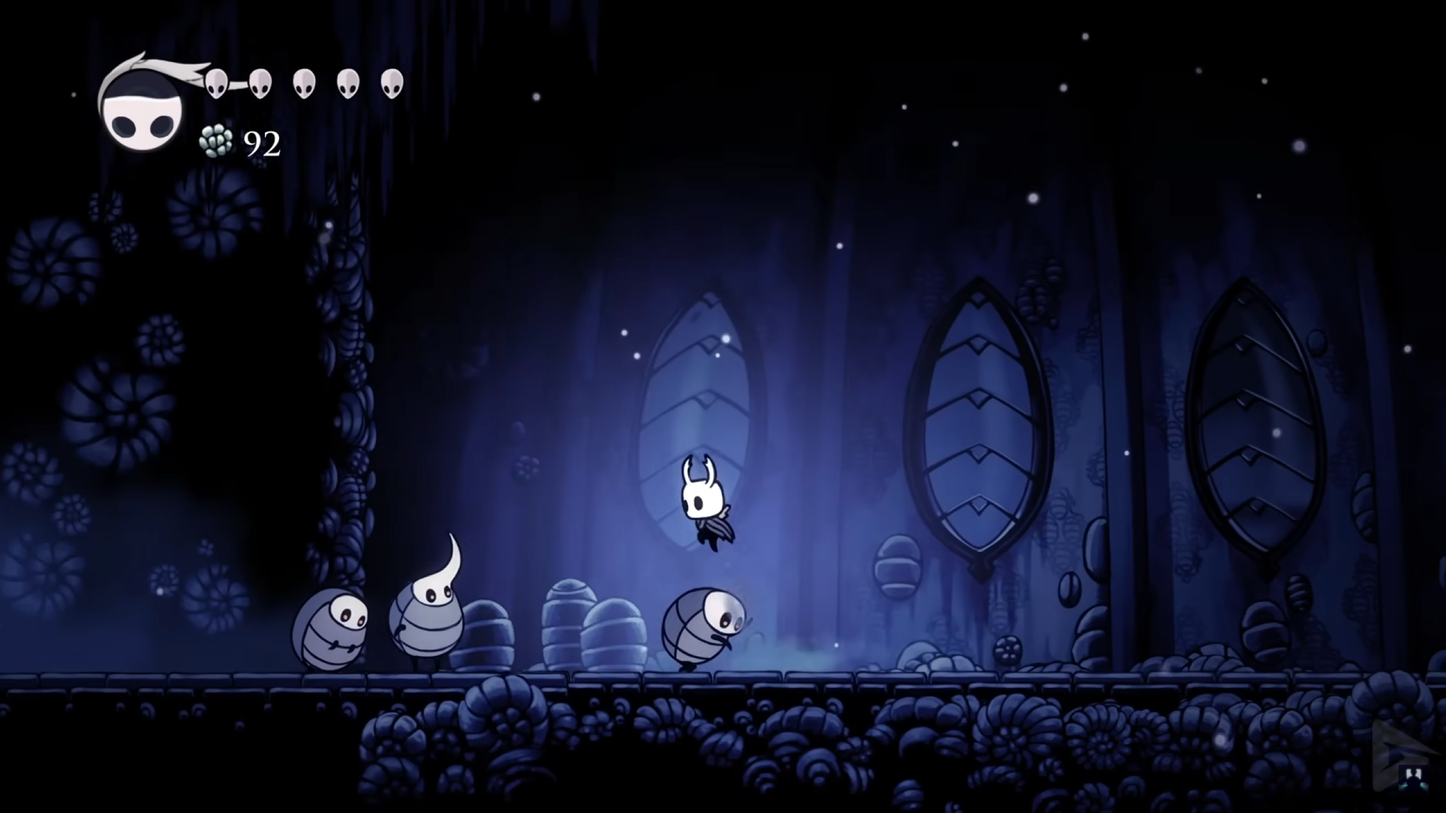HK: (670, 453, 740, 557)
